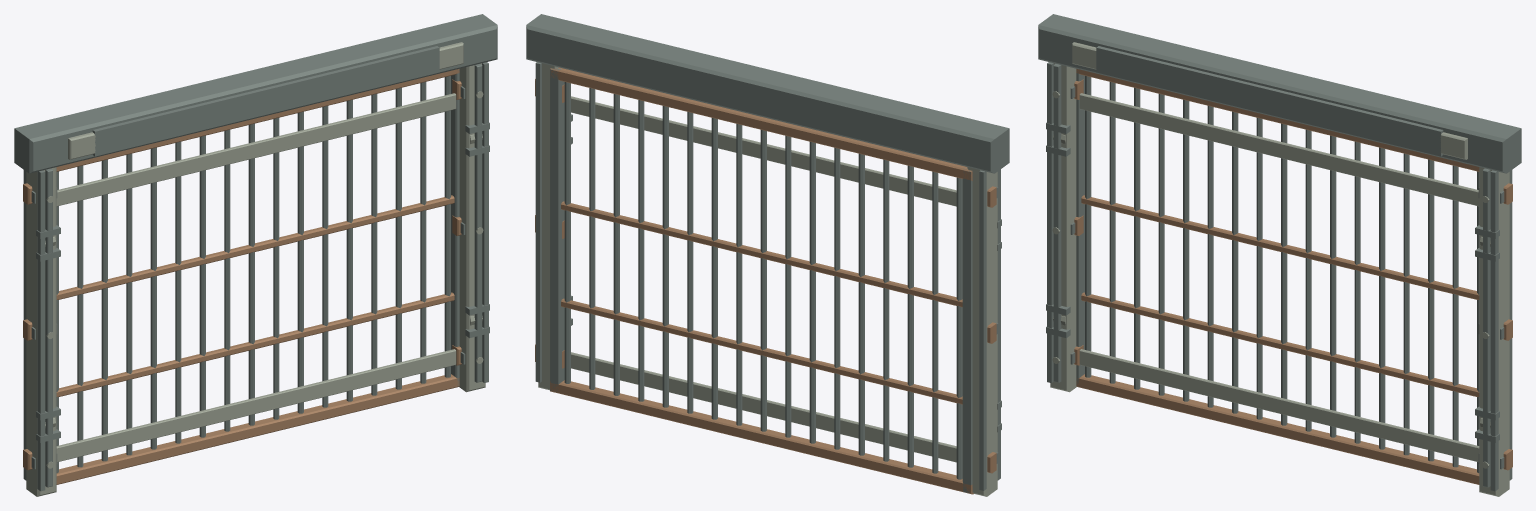
Rendered from Gate.fbx.
3 renders of one model, left to right at view 1: azimuth 30°, elevation 25°; view 2: azimuth 150°, elevation 25°; view 3: azimuth 330°, elevation 25°, orthographic.
Visible parts, largest first — view 1: VerticalBars__Steel, DriveHeader__Steel, LeafBands__WornSteel, GuideSlots__Steel, LiftGuides__WornSteel, GateFrame__Rust, GateCrossbars__Rust, GateFrame__Steel, ShaftBearings__WornSteel, GuideMounts__Rust; view 2: VerticalBars__Steel, DriveHeader__Steel, GateFrame__Rust, LeafBands__WornSteel, LiftGuides__WornSteel, GateFrame__Steel, GateCrossbars__Rust, GuideSlots__Steel, GuideMounts__Rust; view 3: VerticalBars__Steel, DriveHeader__Steel, LeafBands__WornSteel, GuideSlots__Steel, LiftGuides__WornSteel, GateFrame__Rust, GateCrossbars__Rust, GateFrame__Steel, ShaftBearings__WornSteel, GuideMounts__Rust.
Part boxes in pixels (x1,y1,x2,y2): VerticalBars__Steel: (56,76,450,473); DriveHeader__Steel: (14,14,497,173); LeafBands__WornSteel: (56,93,456,462); GuideSlots__Steel: (23,62,489,491); LiftGuides__WornSteel: (26,63,485,496); GateFrame__Rust: (56,69,459,484); GateCrossbars__Rust: (56,195,454,396); GateFrame__Steel: (451,69,459,386); ShaftBearings__WornSteel: (68,42,463,159); GuideMounts__Rust: (23,79,461,470); VerticalBars__Steel: (564,82,962,479); DriveHeader__Steel: (526,14,1009,173); GateFrame__Rust: (550,67,973,494); LeafBands__WornSteel: (571,96,956,462); LiftGuides__WornSteel: (538,63,997,496); GateFrame__Steel: (550,68,972,493); GateCrossbars__Rust: (561,201,962,404); GuideSlots__Steel: (535,62,1001,490); GuideMounts__Rust: (535,79,996,473); VerticalBars__Steel: (1085,76,1479,473); DriveHeader__Steel: (1038,14,1521,173); LeafBands__WornSteel: (1079,93,1479,462); GuideSlots__Steel: (1046,62,1512,491); LiftGuides__WornSteel: (1050,63,1509,496); GateFrame__Rust: (1076,69,1479,484); GateCrossbars__Rust: (1081,195,1479,396); GateFrame__Steel: (1076,71,1084,384); ShaftBearings__WornSteel: (1072,42,1467,159); GuideMounts__Rust: (1074,79,1512,470).
Size of what is drawn, in the model's own units: 4.54 by 3.35 by 0.34.
